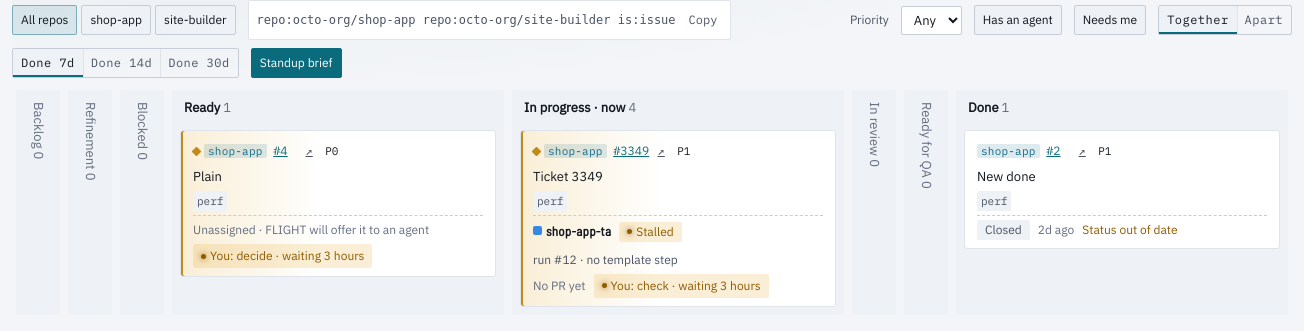
filters › Needs me keeps an escalated card and a worked card whose agent is stalled
Expected: the element showing "Backlog 0" is shown, [16, 90, 60, 314]
Expected: the link "Plain" is shown, [193, 168, 222, 185]
Step 1. Click the button "Needs me" → (1110, 20), box [1074, 5, 1146, 35]
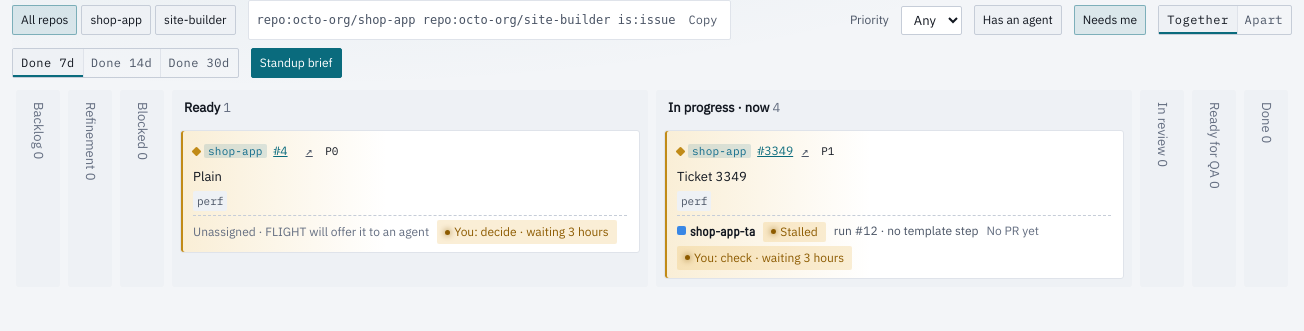
Expected: the link "Plain" is shown, [193, 168, 222, 185]
Expected: the link "New done" is gone
